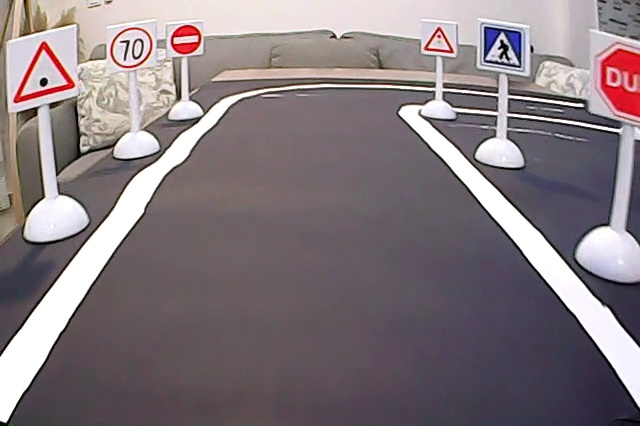do not enter: (167, 22, 205, 58)
green light: (10, 36, 81, 107)
pedestrian crossing: (480, 23, 525, 71)
red light: (420, 24, 456, 56)
speed limit 70: (108, 23, 158, 71)
stop sign: (591, 38, 640, 125)
